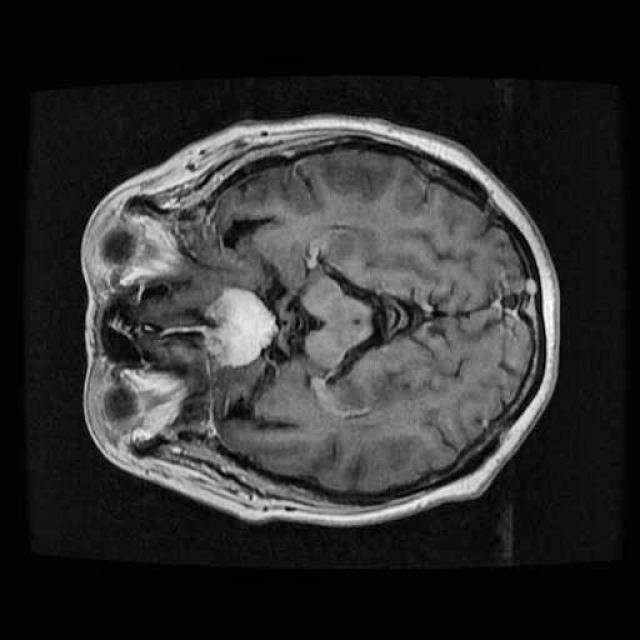Tumor: (186, 269, 290, 380)
